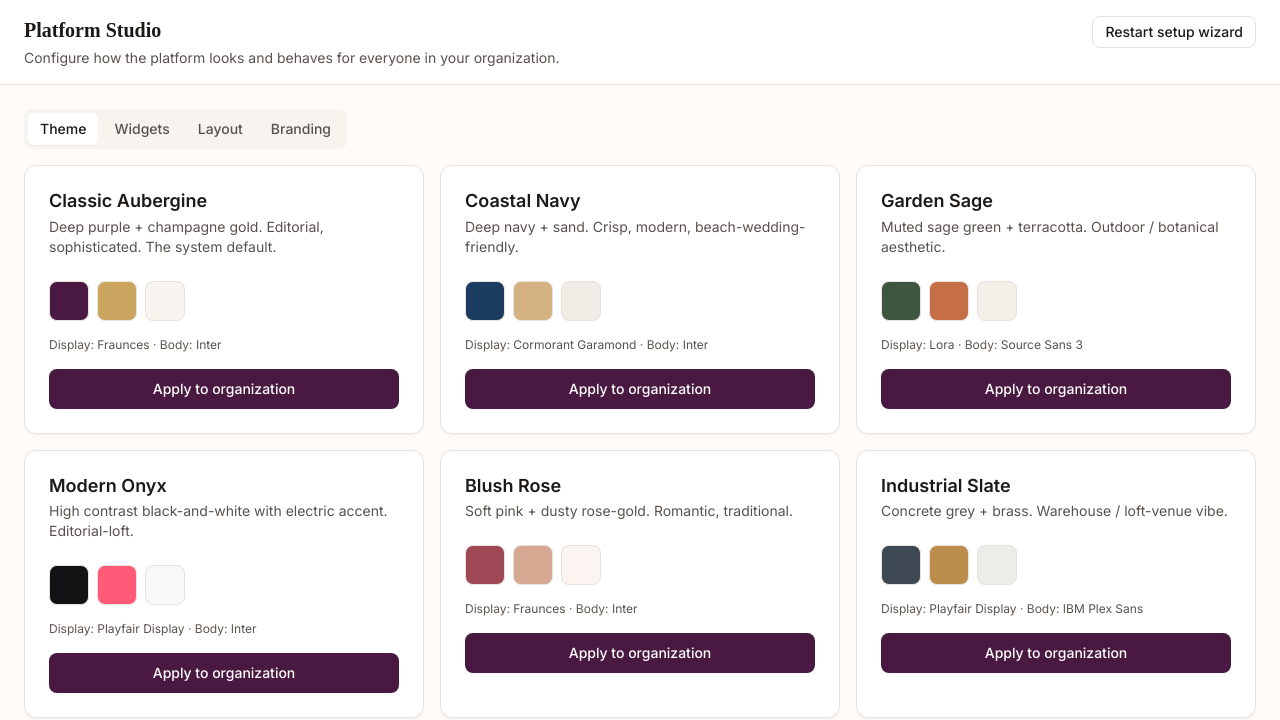
Test: PlatformStudio › surfaces a toast on save failure
The width and height of the screenshot is (1280, 720).
Click the button "Apply to organization" below "Classic Aubergine" at [224, 388], box [49,368,399,408]
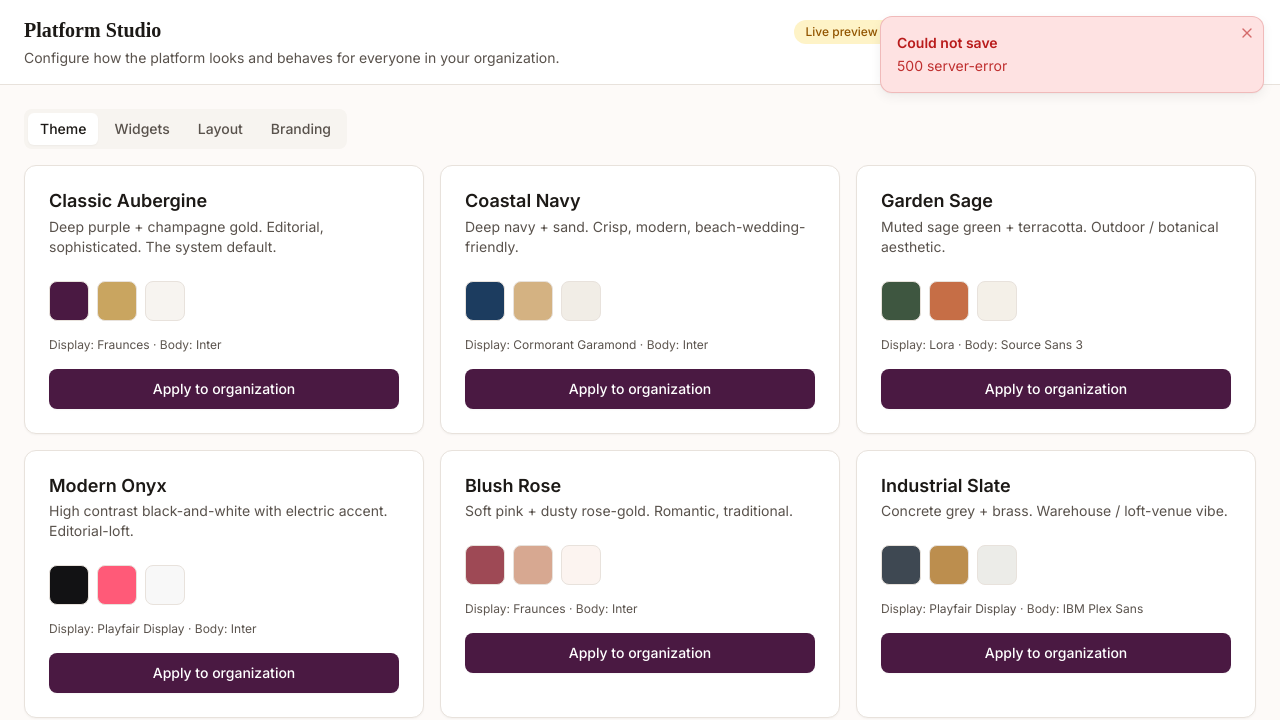
Now the text "Could not save" is shown, box [897,34,998,51]
